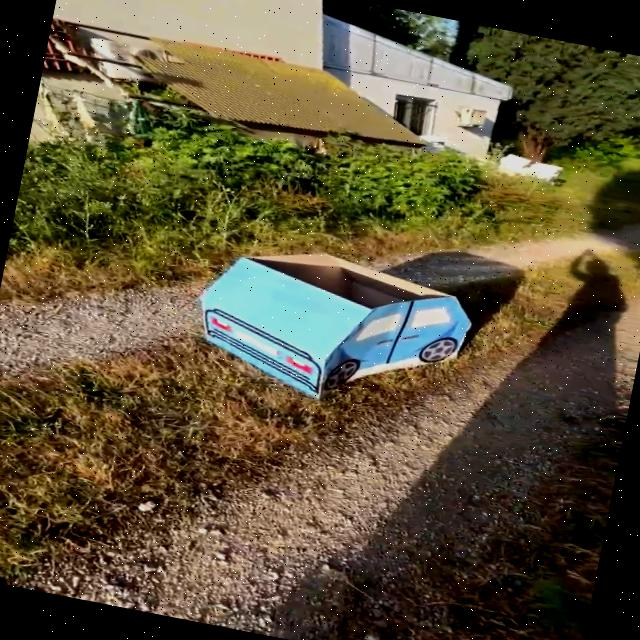blue_car: (166, 203, 522, 446)
